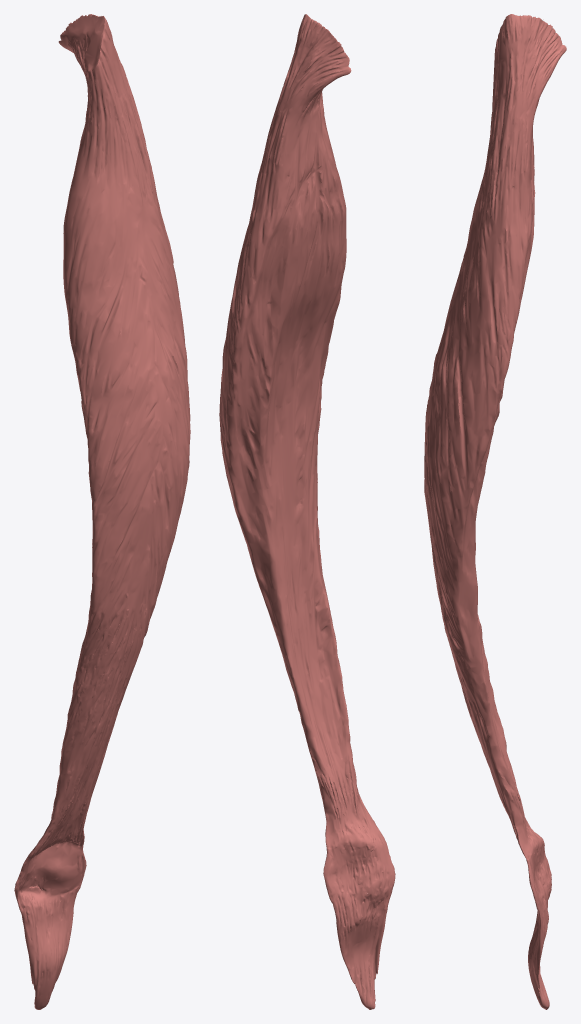
The model's file is fma38929-fj1433m.glb.
The picture shows the model from 3 angles, left to right: view 1: azimuth 30°, elevation 25°; view 2: azimuth 210°, elevation 25°; view 3: azimuth 270°, elevation 25°; orthographic projection. The views are drawn at different scales.
Parts seen in each view (by area): view 1: FMA38929_FJ1433M; view 2: FMA38929_FJ1433M; view 3: FMA38929_FJ1433M.
Part boxes in pixels (x1,y1,x2,y2): FMA38929_FJ1433M: (14,14,190,1009); FMA38929_FJ1433M: (219,14,395,1009); FMA38929_FJ1433M: (424,14,566,1009).
Bounding box in the file's own units: 0.0789 × 0.5279 × 0.067.
